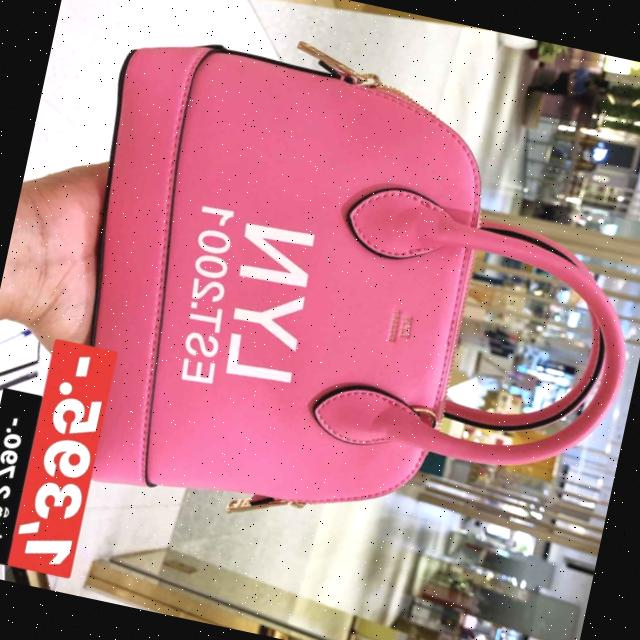Handbag: (7, 18, 530, 570)
